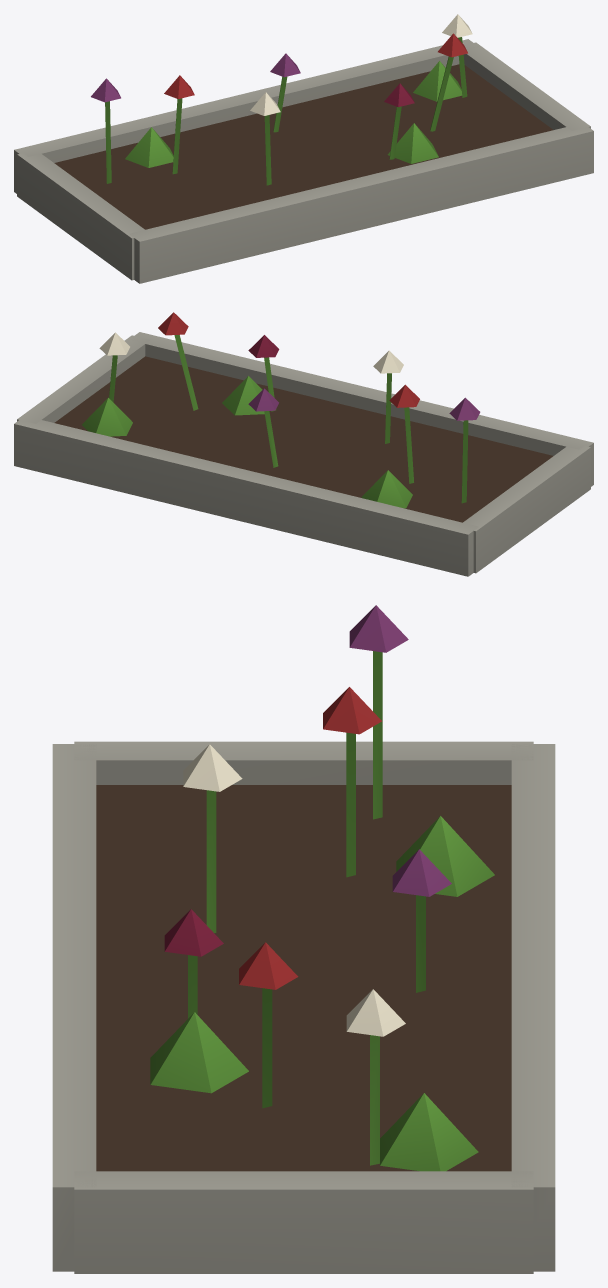
The model's file is curb_flowerbed.glb.
3 renders of one model, top to bottom at view 1: azimuth 30°, elevation 25°; view 2: azimuth 150°, elevation 25°; view 3: azimuth 270°, elevation 25°, orthographic. The views are drawn at different scales.
Parts seen in each view (by area): view 1: curb_flowerbed; view 2: curb_flowerbed; view 3: curb_flowerbed.
Part boxes in pixels (x1,y1,x2,y2): curb_flowerbed: (14, 14, 593, 283); curb_flowerbed: (14, 312, 593, 576); curb_flowerbed: (52, 605, 555, 1273).
Bounding box in the file's own units: 1.94 × 0.5448 × 0.92.
